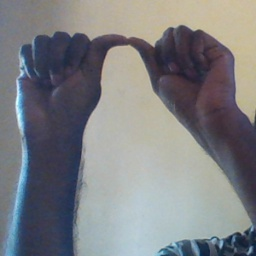A: (20, 25, 232, 135)
